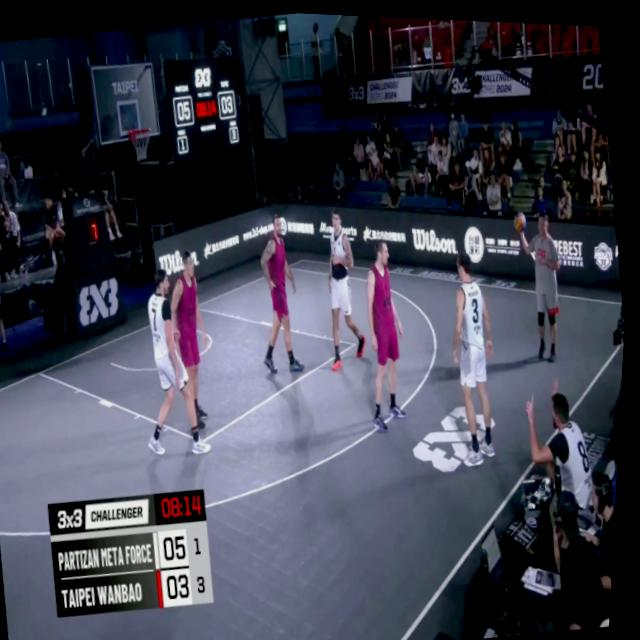ball: (512, 201, 531, 230)
hoop: (125, 118, 158, 166)
player: (128, 260, 223, 462), (441, 242, 518, 459), (358, 233, 429, 438), (157, 243, 226, 434), (250, 207, 317, 377), (320, 205, 379, 368)
